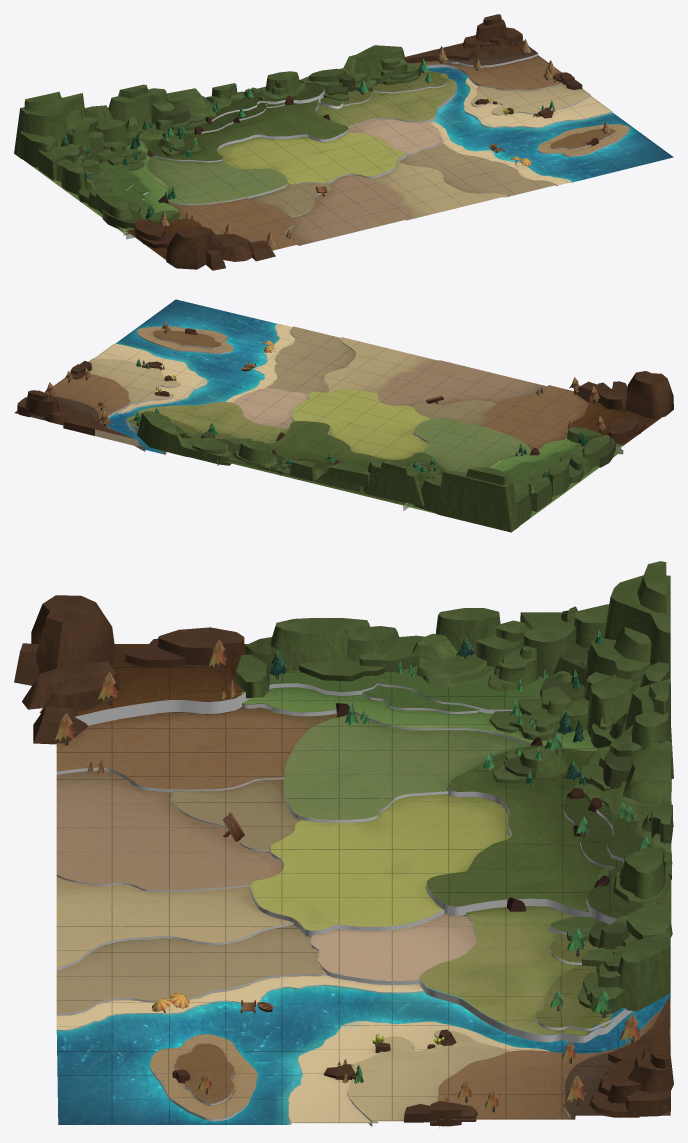
File: DT01_M_M_DiTu01.FBX
The picture shows the model from 3 angles, top to bottom: view 1: azimuth 30°, elevation 25°; view 2: azimuth 150°, elevation 25°; view 3: azimuth 270°, elevation 25°; orthographic projection. The views are drawn at different scales.
Parts seen in each view (by area): view 1: DT01_M_M_DiTu01b, DT01_M_M_DiTu01c, DT01_M_M_DiTu01a; view 2: DT01_M_M_DiTu01b, DT01_M_M_DiTu01c, DT01_M_M_DiTu01a; view 3: DT01_M_M_DiTu01b, DT01_M_M_DiTu01c, DT01_M_M_DiTu01a.
Part boxes in pixels (box(x1,y1,x2,y2)): DT01_M_M_DiTu01b: box(14, 14, 629, 270); DT01_M_M_DiTu01c: box(424, 67, 673, 182); DT01_M_M_DiTu01a: box(123, 53, 629, 245); DT01_M_M_DiTu01b: box(14, 321, 673, 532); DT01_M_M_DiTu01c: box(106, 299, 279, 454); DT01_M_M_DiTu01a: box(100, 329, 623, 510); DT01_M_M_DiTu01b: box(14, 561, 673, 1126); DT01_M_M_DiTu01c: box(56, 986, 670, 1124); DT01_M_M_DiTu01a: box(56, 677, 632, 1128).
Size of the model in its own units: 143 by 16.84 by 86.63.
